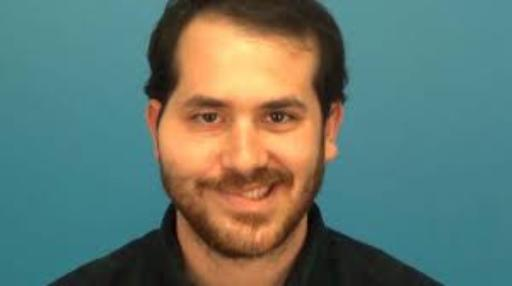left_eye: (262, 112, 303, 126)
left_lip_corner: (274, 178, 292, 191)
right_eye: (189, 112, 227, 127)
right_lip_corner: (218, 186, 239, 199)
